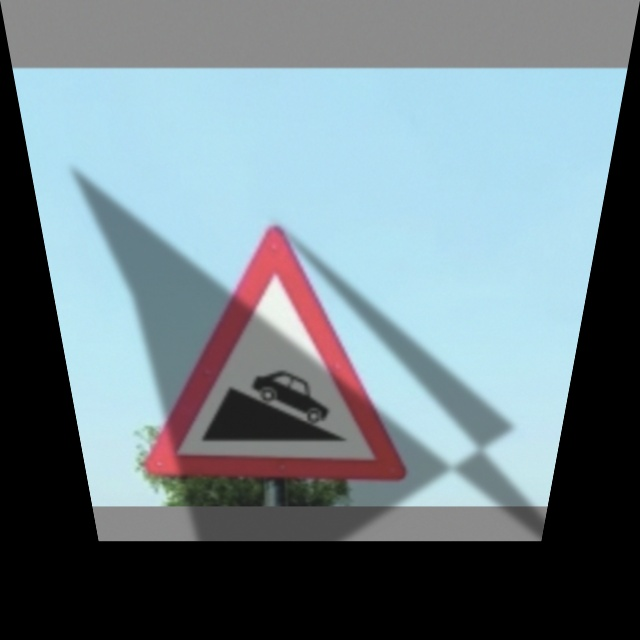Steep_Descent: (116, 230, 418, 477)
